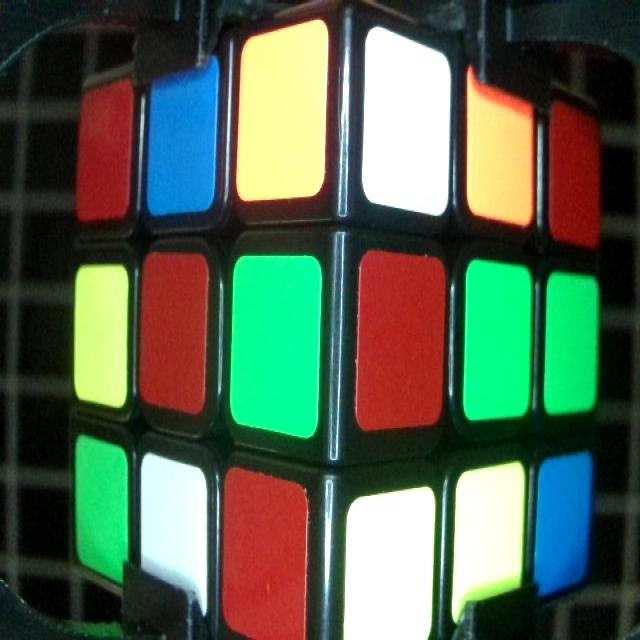b: (148, 48, 220, 210), (536, 463, 593, 588)
g: (232, 250, 322, 437), (366, 21, 450, 211), (346, 486, 434, 640), (142, 455, 211, 618), (464, 263, 530, 423), (75, 438, 131, 583), (545, 274, 600, 416)
r: (358, 253, 442, 424), (226, 468, 308, 640), (140, 253, 207, 408), (550, 99, 603, 249), (77, 82, 132, 219)
w: (455, 467, 525, 612)
y: (239, 34, 323, 197), (466, 67, 534, 225), (76, 269, 128, 409)
